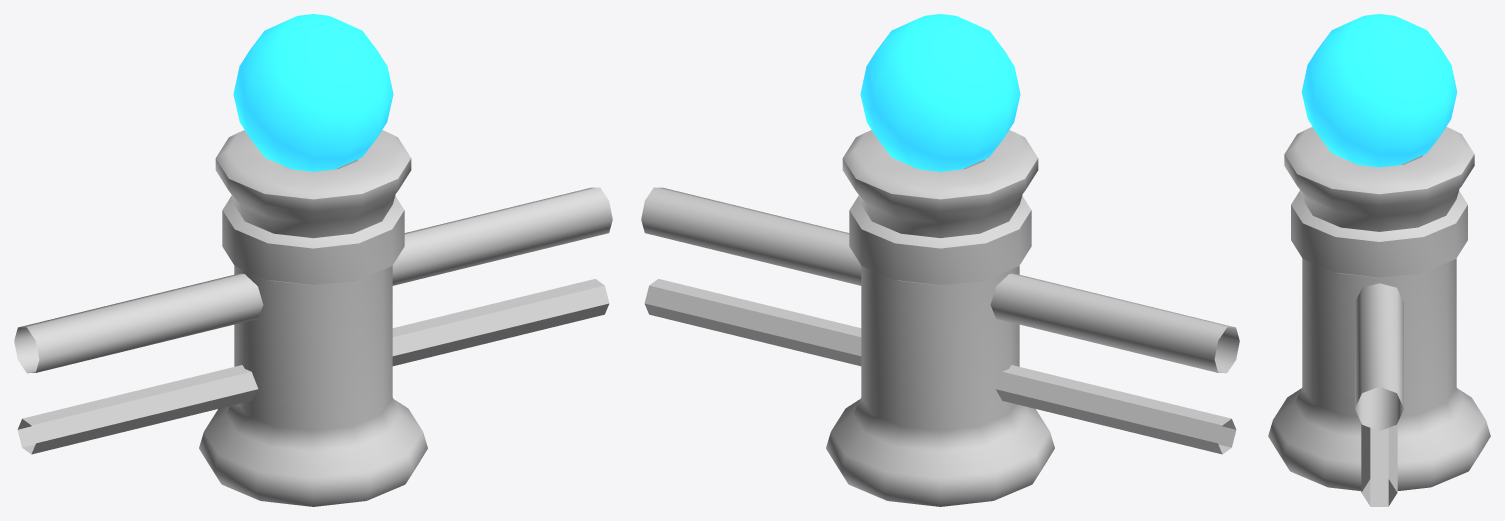
The model's file is Hub_CleanFence.fbx.
3 views of the same model, side by side, from view 1: azimuth 30°, elevation 25°; view 2: azimuth 150°, elevation 25°; view 3: azimuth 270°, elevation 25° (orthographic). The views are drawn at different scales.
Parts seen in each view (by area): view 1: CleanFence_Corner, CleanFence_Rail, CleanFence_CornerGlow; view 2: CleanFence_Corner, CleanFence_Rail, CleanFence_CornerGlow; view 3: CleanFence_Corner, CleanFence_CornerGlow, CleanFence_Rail.
Boxes of the visible parts, bbox=[...] form: CleanFence_Corner: bbox=[199, 130, 427, 506]; CleanFence_Rail: bbox=[14, 187, 612, 454]; CleanFence_CornerGlow: bbox=[233, 14, 393, 171]; CleanFence_Corner: bbox=[826, 130, 1054, 506]; CleanFence_Rail: bbox=[641, 187, 1239, 454]; CleanFence_CornerGlow: bbox=[860, 14, 1020, 171]; CleanFence_Corner: bbox=[1268, 127, 1490, 490]; CleanFence_CornerGlow: bbox=[1301, 14, 1457, 167]; CleanFence_Rail: bbox=[1355, 283, 1403, 506].
Bounding box in the file's own units: 7.86 × 5.77 × 2.72.
